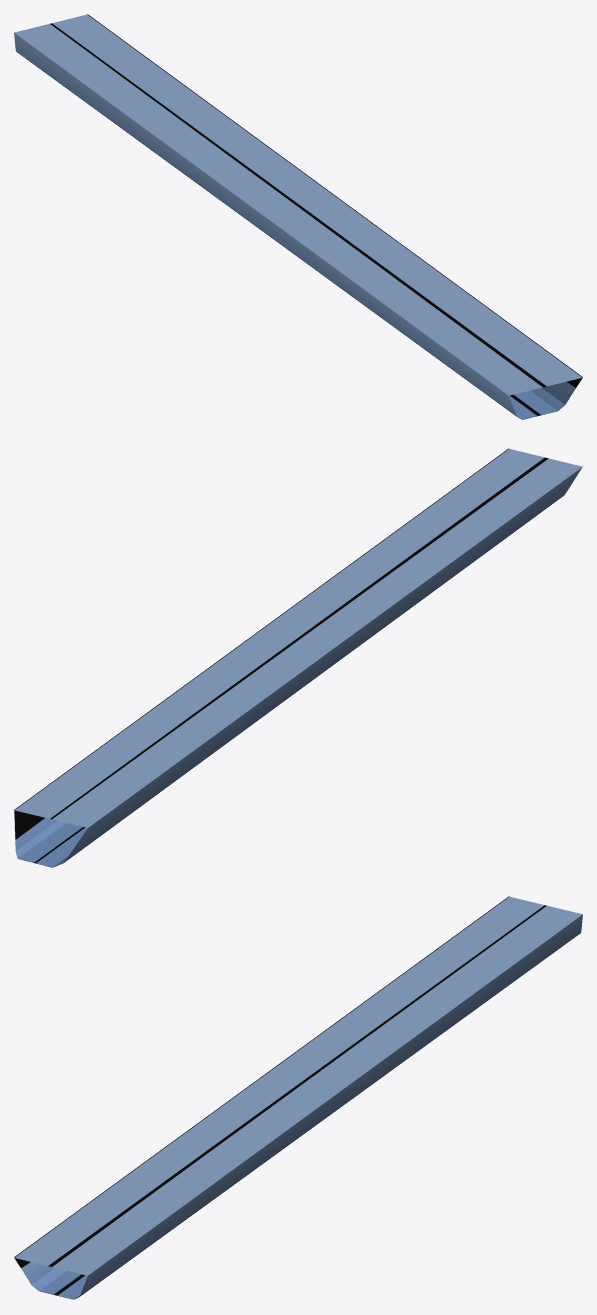
File: SciFi_PlatformStairs_Support.glb
The picture shows the model from 3 angles, top to bottom: view 1: azimuth 30°, elevation 25°; view 2: azimuth 150°, elevation 25°; view 3: azimuth 330°, elevation 25°; orthographic projection.
Parts seen in each view (by area): view 1: SciFi_PlatformStairs_Support; view 2: SciFi_PlatformStairs_Support; view 3: SciFi_PlatformStairs_Support.
Part boxes in pixels (bbox=[...]): SciFi_PlatformStairs_Support: bbox=[14, 14, 582, 419]; SciFi_PlatformStairs_Support: bbox=[14, 448, 582, 867]; SciFi_PlatformStairs_Support: bbox=[14, 896, 582, 1299].
Size of the model in its own units: 0.8455 by 0.3951 by 9.98.
3 materials, 2 textured.
